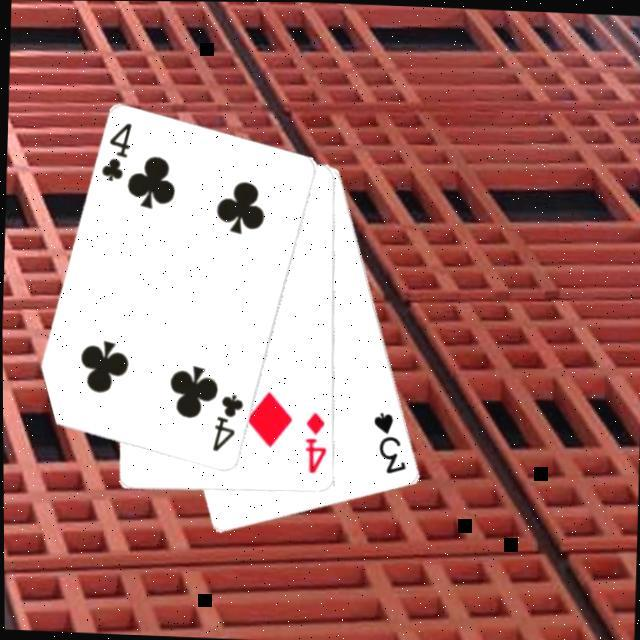3S: (369, 411, 412, 478)
4C: (99, 120, 137, 188), (210, 392, 248, 458)
4D: (302, 411, 330, 479)
